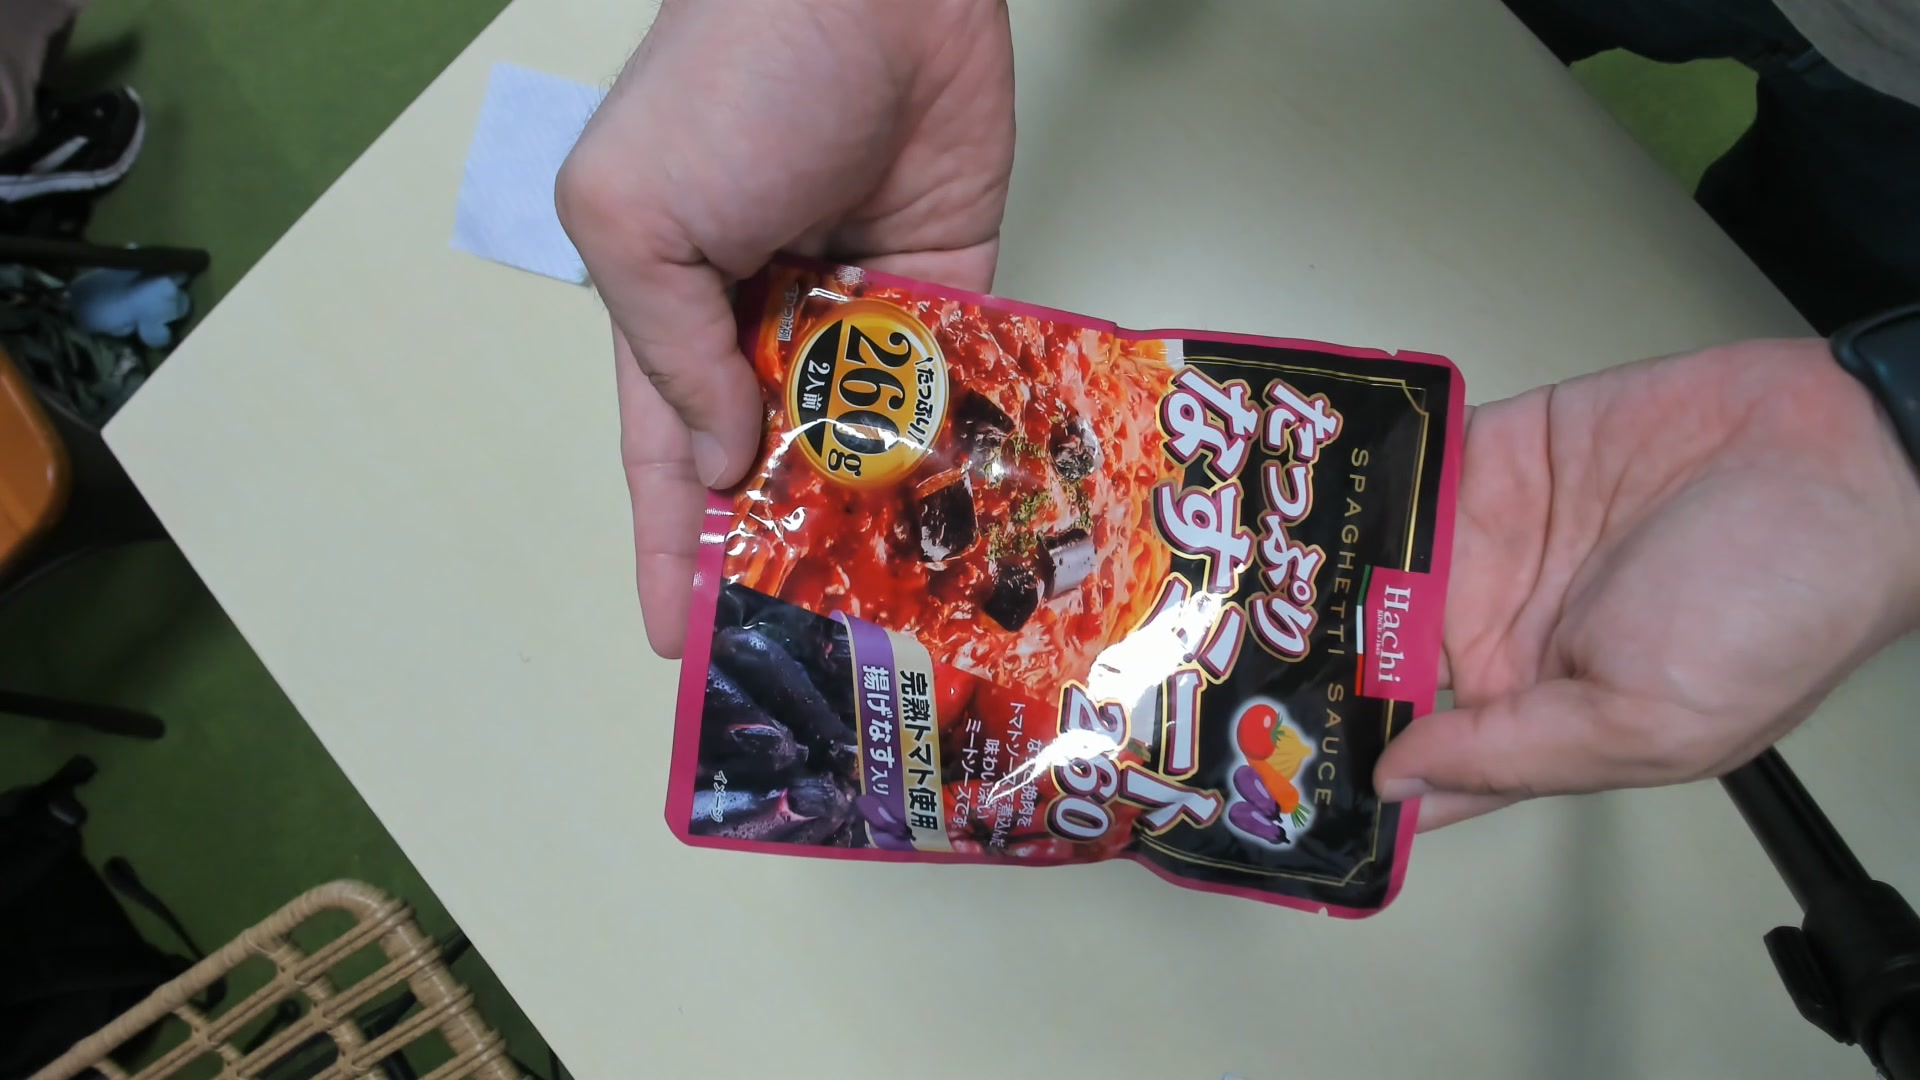PastaSauce_200-299g_NonHalal_NonHealthy: (678, 272, 1451, 919)
